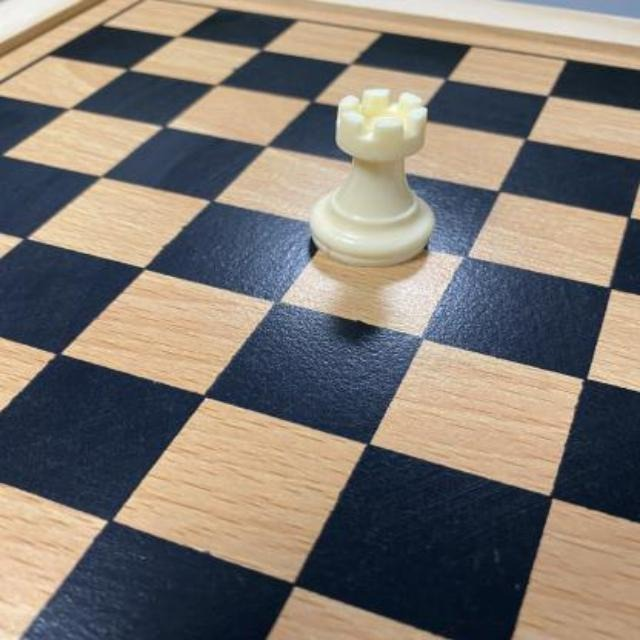white-rook: (308, 88, 440, 268)
